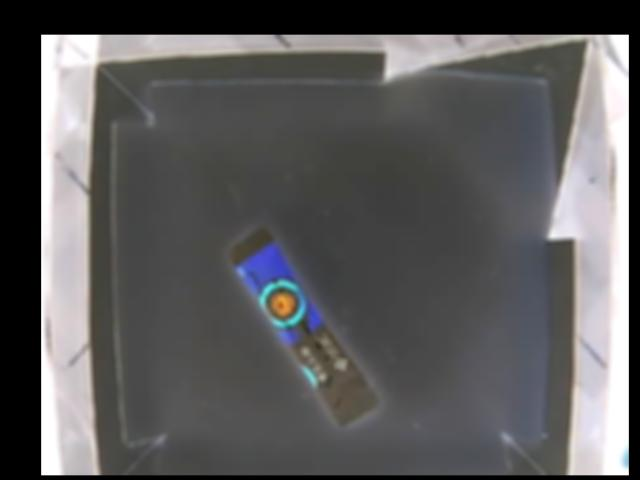Medicine: (227, 225, 379, 423)
